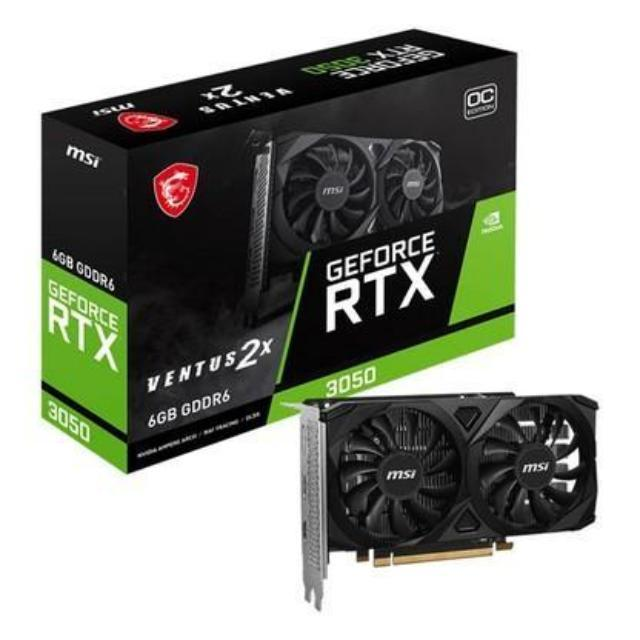GPU: (287, 384, 605, 590)
